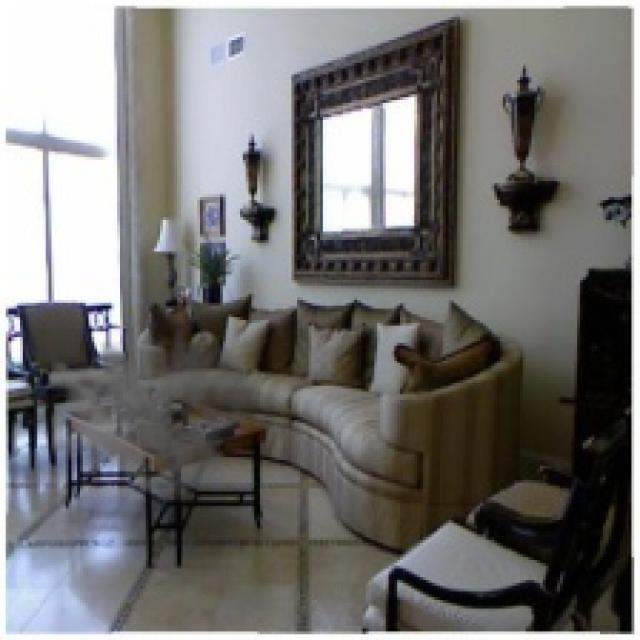Smoke: (51, 306, 258, 506)
